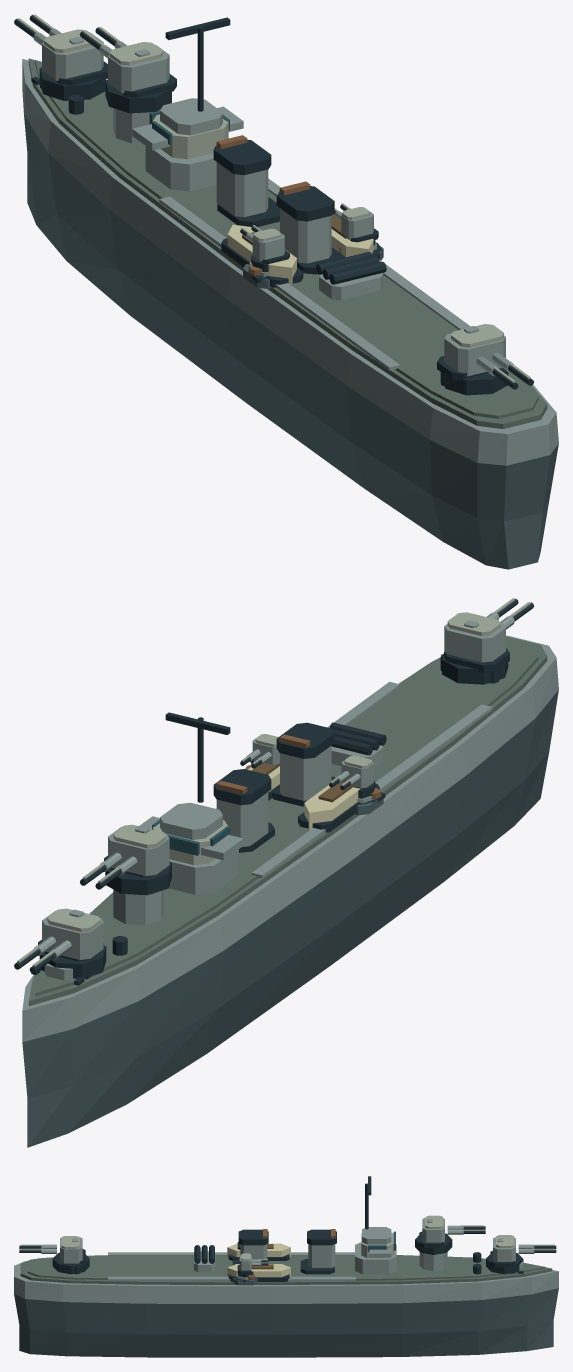
File: historic-haida.glb
3 renders of one model, top to bottom at view 1: azimuth 30°, elevation 25°; view 2: azimuth 150°, elevation 25°; view 3: azimuth 270°, elevation 25°, orthographic. The views are drawn at different scales.
Parts seen in each view (by area): view 1: historic-haida-historic-haida-geometry, historic-haida-part_bridge.056-geometry, historic-haida-turret_main_1.045-geometry, historic-haida-historic_funnel_0.057-geometry, historic-haida-turret_main_2.040-geometry, historic-haida-turret_main_0.046-geometry, historic-haida-historic_funnel_1.031-geometry, historic-haida-torpedo_bank_0.016-geometry, historic-haida-turret_aa_aa-port.058-geometry, historic-haida-turret_aa_aa-starboard.056-geometry; view 2: historic-haida-historic-haida-geometry, historic-haida-part_bridge.056-geometry, historic-haida-turret_main_2.040-geometry, historic-haida-turret_main_1.045-geometry, historic-haida-turret_main_0.046-geometry, historic-haida-historic_funnel_1.031-geometry, historic-haida-historic_funnel_0.057-geometry, historic-haida-torpedo_bank_0.016-geometry, historic-haida-turret_aa_aa-port.058-geometry, historic-haida-turret_aa_aa-starboard.056-geometry; view 3: historic-haida-historic-haida-geometry, historic-haida-part_bridge.056-geometry, historic-haida-turret_main_1.045-geometry, historic-haida-turret_main_0.046-geometry, historic-haida-turret_main_2.040-geometry, historic-haida-historic_funnel_0.057-geometry, historic-haida-historic_funnel_1.031-geometry, historic-haida-torpedo_bank_0.016-geometry, historic-haida-turret_aa_aa-starboard.056-geometry.
Part boxes in pixels (x1,y1,x2,y2): historic-haida-historic-haida-geometry: (22, 58, 558, 569); historic-haida-part_bridge.056-geometry: (132, 17, 243, 191); historic-haida-turret_main_1.045-geometry: (80, 27, 176, 113); historic-haida-historic_funnel_0.057-geometry: (213, 135, 279, 226); historic-haida-turret_main_2.040-geometry: (437, 324, 533, 395); historic-haida-turret_main_0.046-geometry: (14, 14, 107, 100); historic-haida-historic_funnel_1.031-geometry: (276, 181, 343, 274); historic-haida-torpedo_bank_0.016-geometry: (315, 252, 386, 300); historic-haida-turret_aa_aa-port.058-geometry: (240, 225, 289, 272); historic-haida-turret_aa_aa-starboard.056-geometry: (333, 203, 378, 245); historic-haida-historic-haida-geometry: (22, 635, 558, 1147); historic-haida-part_bridge.056-geometry: (139, 712, 243, 894); historic-haida-turret_main_2.040-geometry: (442, 598, 533, 684); historic-haida-turret_main_1.045-geometry: (80, 824, 171, 895); historic-haida-turret_main_0.046-geometry: (14, 908, 106, 978); historic-haida-historic_funnel_1.031-geometry: (271, 722, 334, 806); historic-haida-historic_funnel_0.057-geometry: (213, 769, 274, 852); historic-haida-torpedo_bank_0.016-geometry: (329, 722, 386, 767); historic-haida-turret_aa_aa-port.058-geometry: (329, 755, 375, 798); historic-haida-turret_aa_aa-starboard.056-geometry: (240, 734, 279, 768); historic-haida-historic-haida-geometry: (14, 1243, 558, 1357); historic-haida-part_bridge.056-geometry: (355, 1176, 396, 1274); historic-haida-turret_main_1.045-geometry: (415, 1215, 485, 1254); historic-haida-turret_main_0.046-geometry: (486, 1235, 556, 1274); historic-haida-turret_main_2.040-geometry: (19, 1236, 89, 1274); historic-haida-historic_funnel_0.057-geometry: (300, 1229, 336, 1274); historic-haida-historic_funnel_1.031-geometry: (232, 1229, 268, 1265); historic-haida-torpedo_bank_0.016-geometry: (194, 1245, 215, 1271); historic-haida-turret_aa_aa-starboard.056-geometry: (237, 1253, 268, 1277).
Size of the model in its own units: 0.6034 by 1.36 by 4.11.
